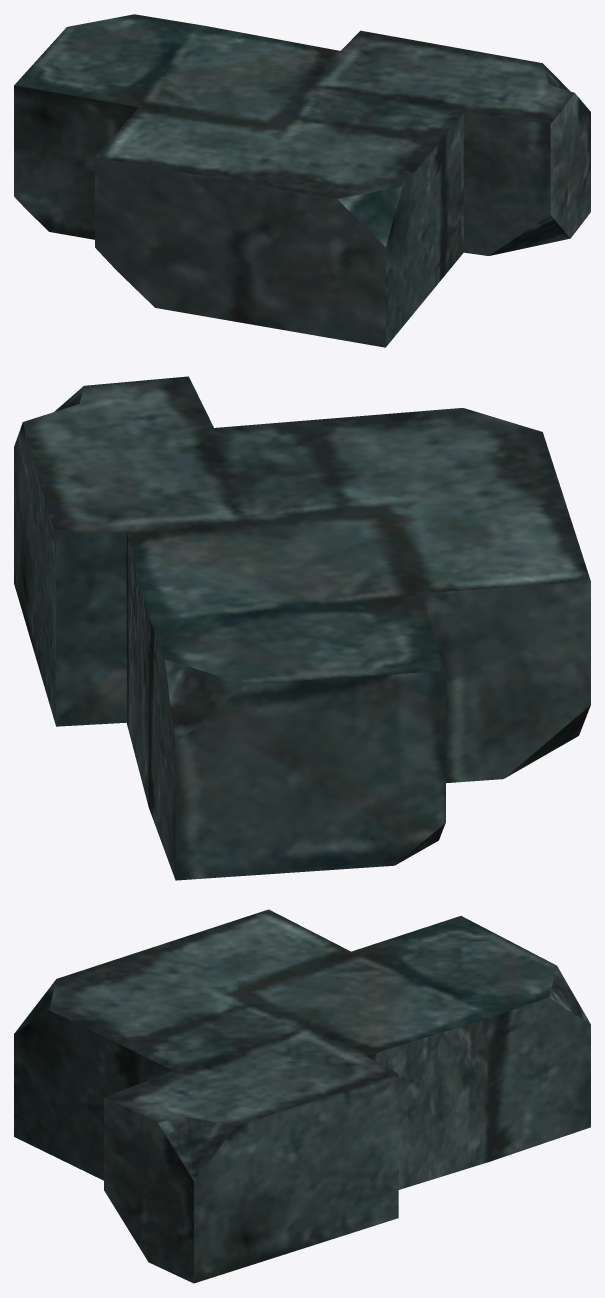
File: floor_peice4.fbx
The picture shows the model from 3 angles, top to bottom: view 1: azimuth 30°, elevation 25°; view 2: azimuth 150°, elevation 25°; view 3: azimuth 270°, elevation 25°; orthographic projection. The views are drawn at different scales.
Parts seen in each view (by area): view 1: obj0.011; view 2: obj0.011; view 3: obj0.011.
Part boxes in pixels (<box>): obj0.011: <box>14,14,590,347</box>; obj0.011: <box>14,376,590,880</box>; obj0.011: <box>14,909,590,1283</box>.
Size of the model in its own units: 1.74 by 0.5083 by 1.85.
